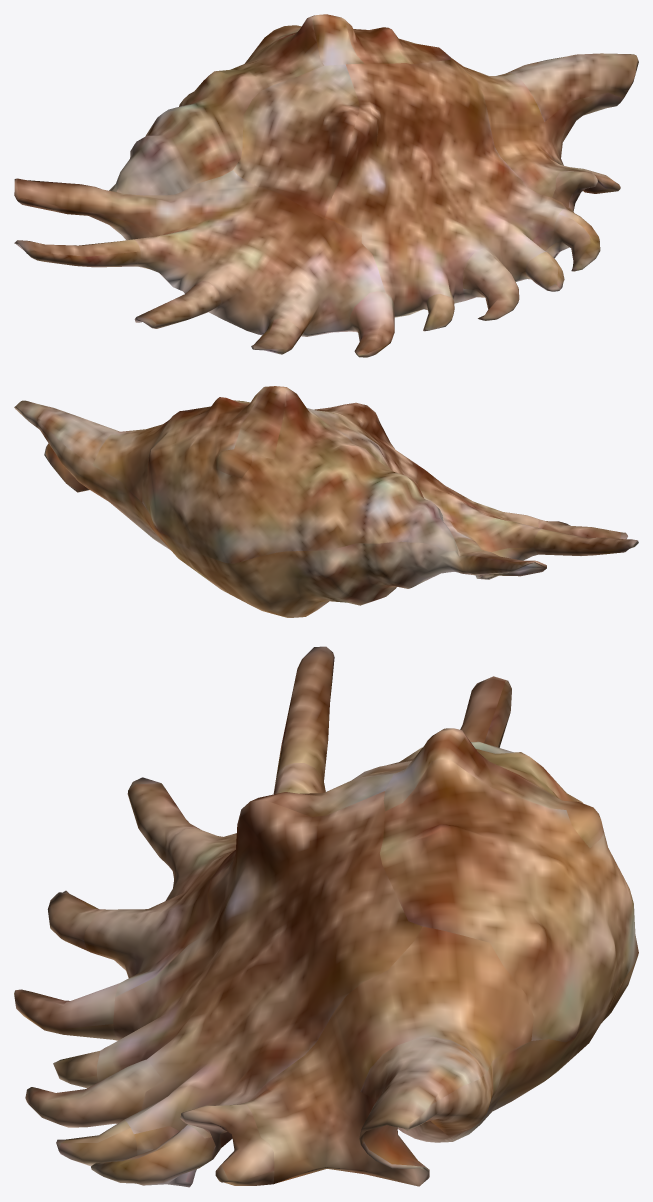
The model's file is design-lambis-shell.glb.
The picture shows the model from 3 angles, top to bottom: view 1: azimuth 30°, elevation 25°; view 2: azimuth 150°, elevation 25°; view 3: azimuth 270°, elevation 25°; orthographic projection. The views are drawn at different scales.
Visible parts, largest first — view 1: lambis_shell; view 2: lambis_shell; view 3: lambis_shell.
Part boxes in pixels (x1,y1,x2,y2): lambis_shell: (14,14,638,357); lambis_shell: (14,386,638,617); lambis_shell: (14,646,638,1187).
Size of the model in its own units: 0.1395 by 0.0465 by 0.0744.
Materials: 1 (1 with a texture image).
